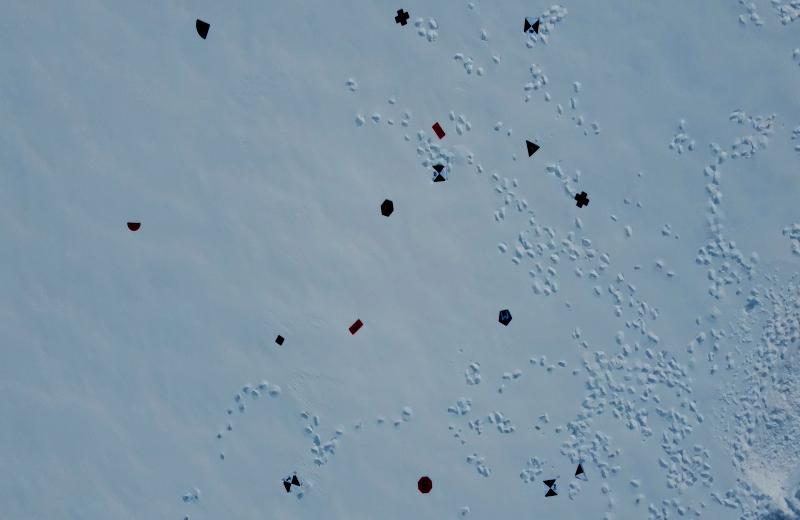Cross: (395, 8, 410, 27), (574, 191, 590, 208)
Hexagon: (380, 199, 395, 219)
Octagon: (416, 476, 432, 495)
Pentagon: (498, 310, 513, 327)
Quarter Circle: (194, 16, 210, 42)
Rectangle: (348, 319, 364, 337), (432, 121, 446, 140)
Semi Circle: (126, 220, 142, 232)
Square: (274, 334, 285, 347)
Triangle: (526, 139, 540, 158)
